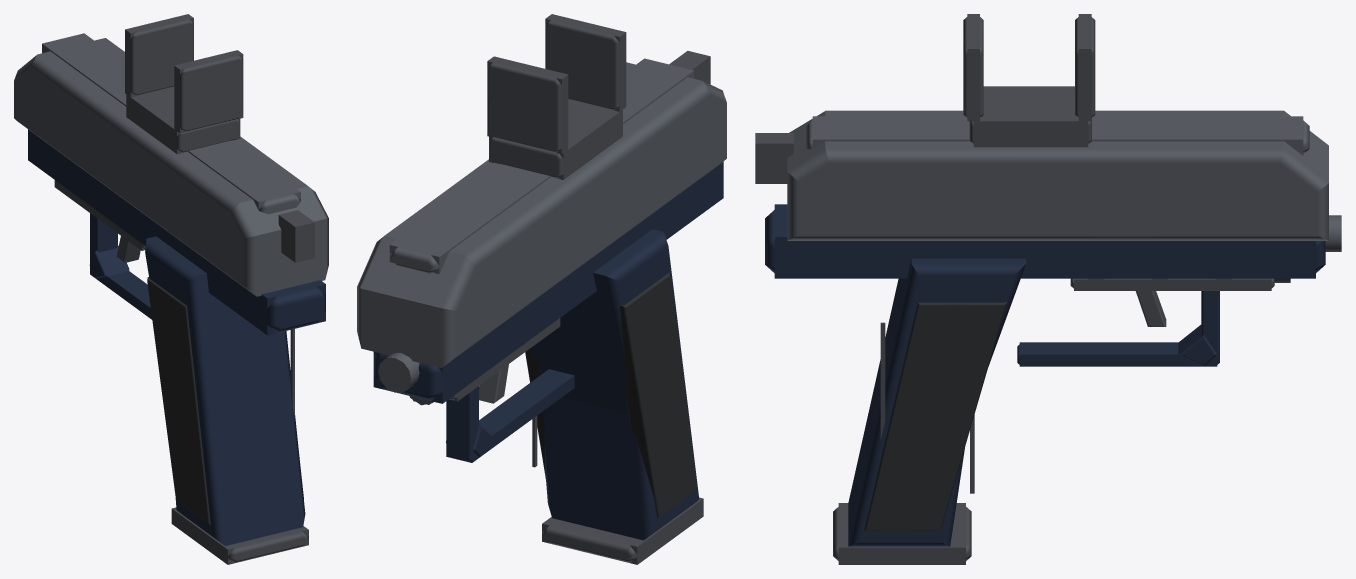
File: p_mark.glb
The picture shows the model from 3 angles, left to right: view 1: azimuth 30°, elevation 25°; view 2: azimuth 150°, elevation 25°; view 3: azimuth 270°, elevation 25°; orthographic projection. The views are drawn at different scales.
Parts seen in each view (by area): view 1: L0, L1; view 2: L0, L1; view 3: L0, L1.
Part boxes in pixels (x1,y1,x2,y2): L0: [14, 15, 328, 563]; L1: [28, 14, 325, 564]; L0: [357, 15, 726, 562]; L1: [373, 14, 723, 564]; L0: [755, 16, 1341, 560]; L1: [774, 14, 1341, 564].
Bounding box in the file's own units: 0.0396 × 0.177 × 0.184.
